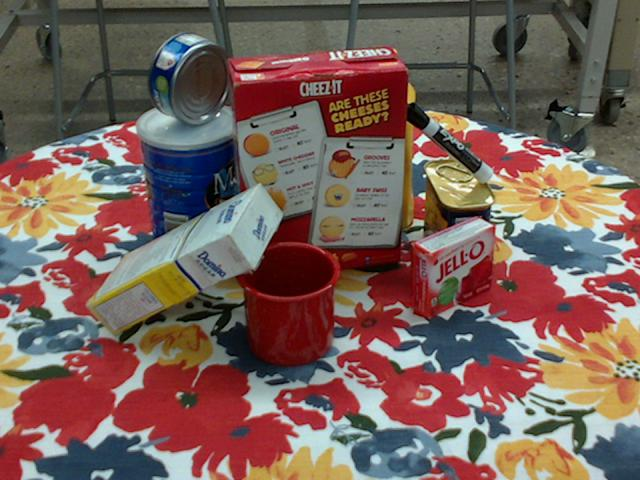cracker_box: (226, 48, 409, 280)
gelatin_box: (410, 216, 495, 319)
large_marker: (401, 103, 493, 183)
master_chef_can: (137, 102, 243, 266)
mug: (235, 240, 341, 366)
mustard_bottle: (360, 49, 414, 231)
potted_meat_can: (422, 159, 495, 274)
sugar_box: (84, 184, 282, 337)
tomato_soup_can: (277, 107, 338, 212)
tuna_fish_can: (148, 32, 231, 124)
